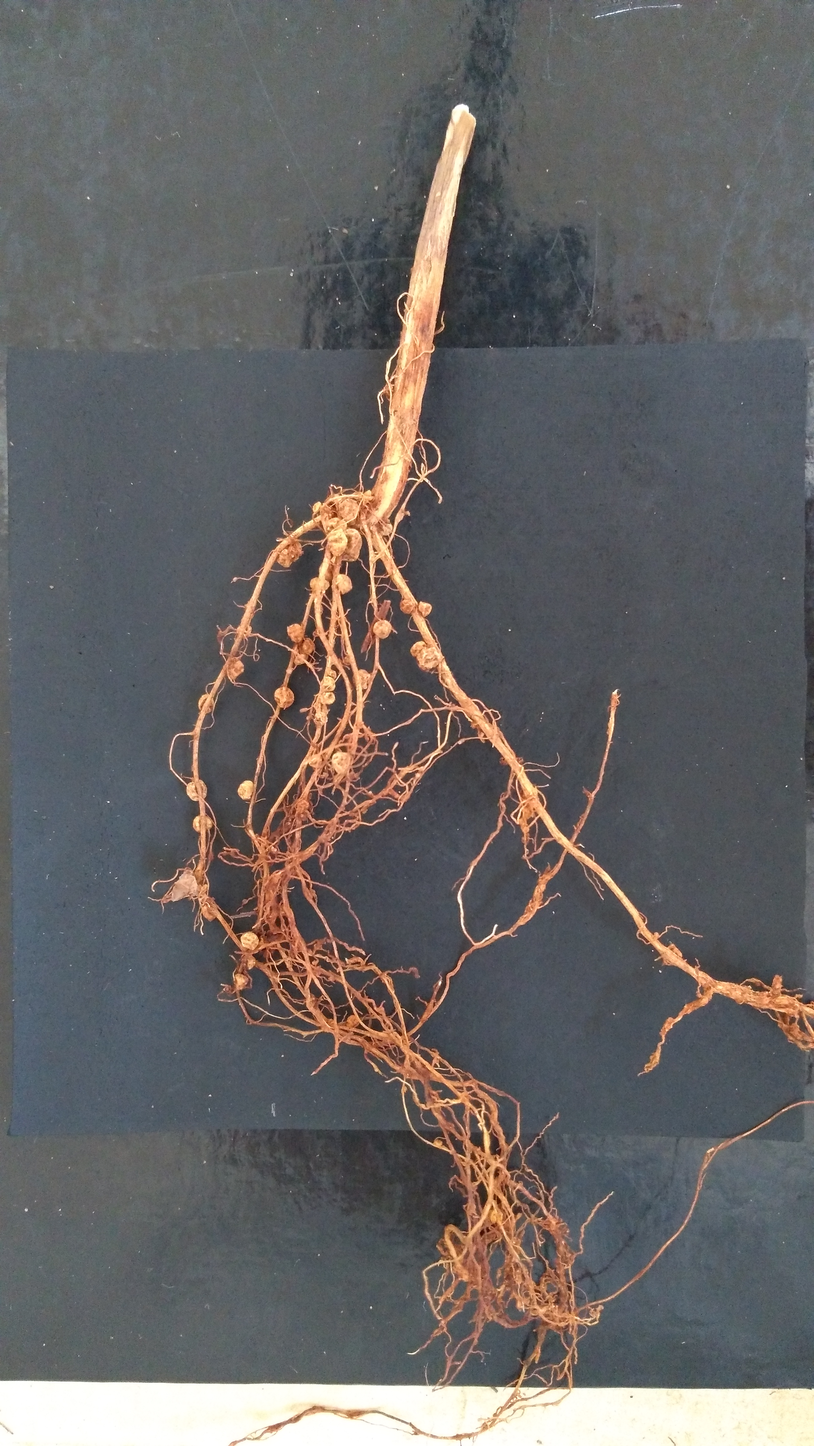nodule: (171, 869, 199, 902), (276, 540, 302, 568), (342, 528, 362, 562), (416, 647, 444, 671), (327, 528, 349, 556), (331, 751, 354, 776), (436, 1237, 464, 1257), (338, 498, 360, 523), (323, 494, 343, 519), (186, 779, 208, 801), (662, 943, 683, 966), (274, 686, 295, 708), (331, 573, 352, 594), (786, 1021, 804, 1045), (295, 798, 313, 821), (227, 657, 244, 681), (373, 619, 393, 639), (353, 669, 371, 690), (192, 814, 213, 832), (325, 518, 348, 534), (521, 794, 537, 816), (452, 1263, 470, 1282), (297, 637, 315, 656), (241, 931, 259, 950), (287, 623, 304, 643), (200, 902, 217, 922), (198, 694, 215, 714), (318, 562, 336, 580), (237, 780, 254, 799), (310, 577, 331, 591), (233, 973, 249, 991), (320, 676, 336, 692), (241, 953, 256, 970), (237, 623, 253, 638), (318, 691, 336, 704), (400, 599, 415, 614), (346, 1015, 360, 1031), (516, 1296, 530, 1311), (410, 641, 425, 655), (314, 700, 329, 714), (308, 753, 322, 768), (510, 1236, 522, 1253), (490, 1209, 503, 1224), (419, 601, 432, 616), (313, 712, 328, 725), (294, 652, 308, 665), (513, 1266, 523, 1284), (519, 817, 529, 834), (380, 523, 393, 536), (362, 489, 372, 505), (382, 382, 394, 394), (326, 667, 336, 678), (313, 501, 322, 513), (343, 654, 352, 666), (434, 1139, 443, 1146), (270, 845, 277, 852), (328, 975, 335, 982), (652, 932, 659, 938), (311, 959, 316, 965)
